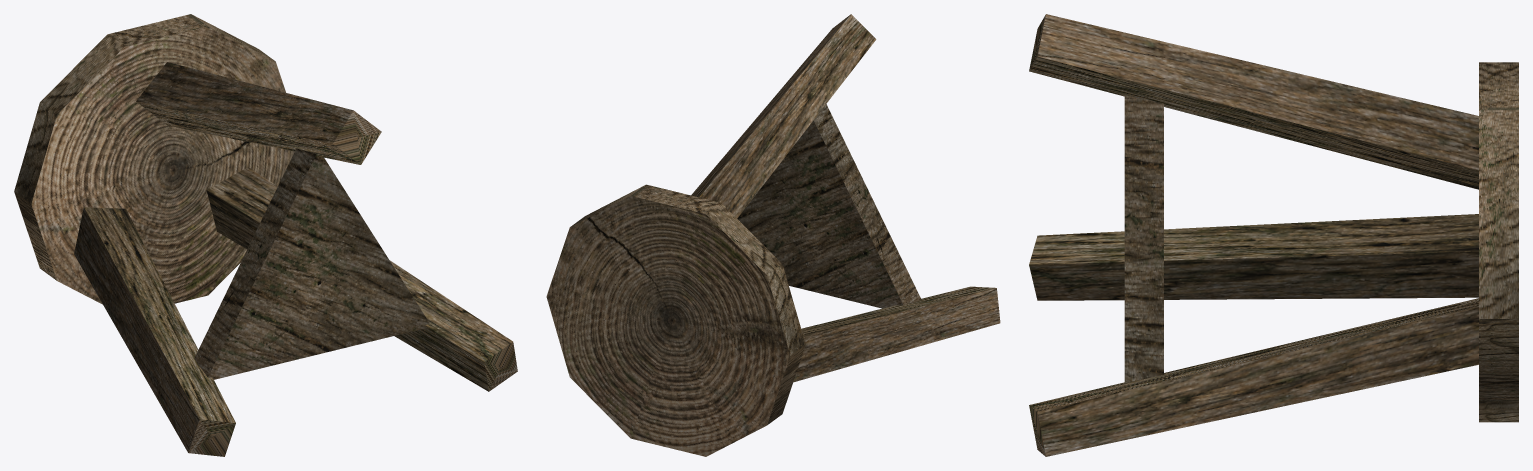
File: mm9_deco_stool01p90.glb
The picture shows the model from 3 angles, left to right: view 1: azimuth 30°, elevation 25°; view 2: azimuth 150°, elevation 25°; view 3: azimuth 270°, elevation 25°; orthographic projection. The views are drawn at different scales.
Parts seen in each view (by area): view 1: Stool01p90; view 2: Stool01p90; view 3: Stool01p90.
Part boxes in pixels (left/top/right/bottom): Stool01p90: left=14, top=14, right=517, bottom=456; Stool01p90: left=546, top=14, right=1000, bottom=456; Stool01p90: left=1029, top=14, right=1518, bottom=456.
Size of the model in its own units: 0.6312 by 0.6066 by 0.6993.
Materials: 1 (1 with a texture image).
